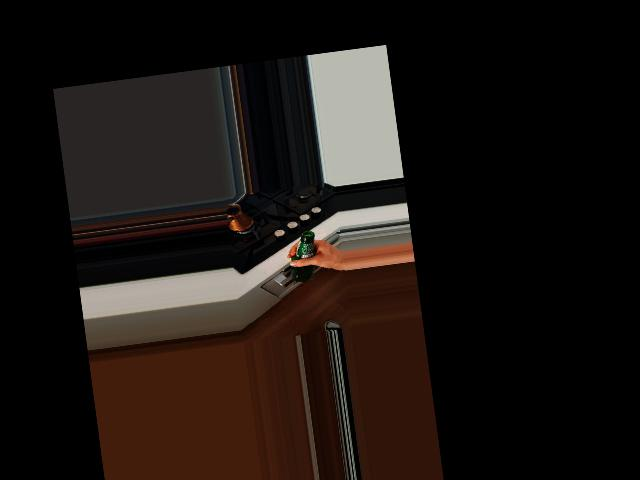beer: (286, 230, 320, 283)
